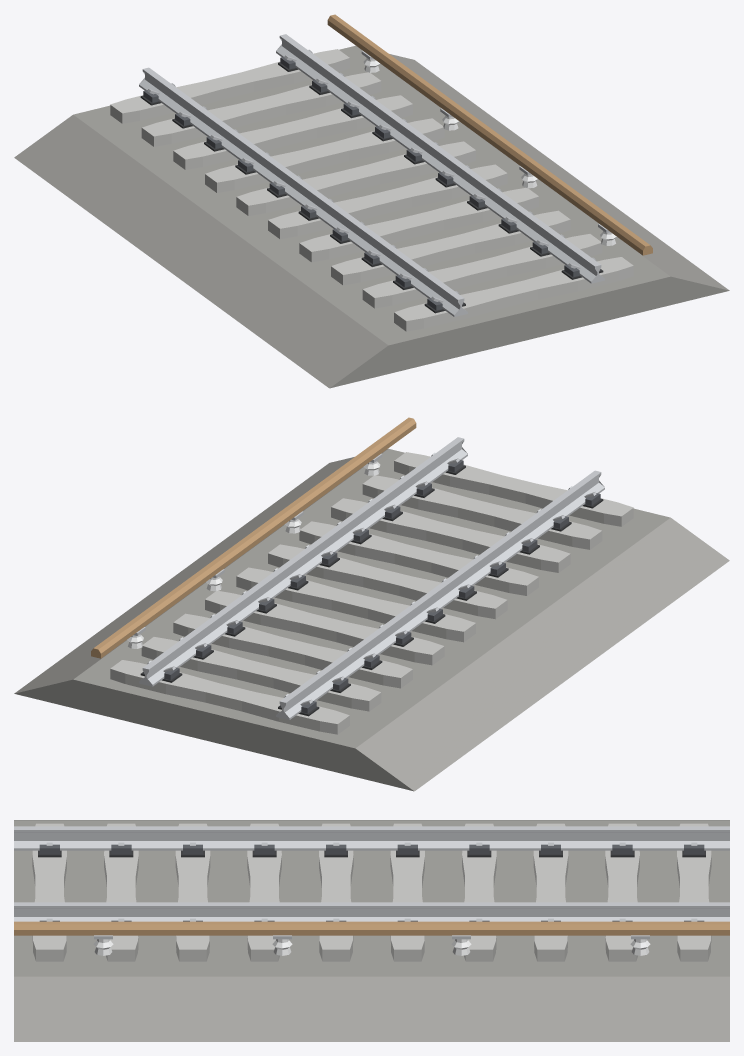
File: modern-rail-and-metro-network-third-rail-track-6m-36a7be0c__13688.glb
The picture shows the model from 3 angles, top to bottom: view 1: azimuth 30°, elevation 25°; view 2: azimuth 150°, elevation 25°; view 3: azimuth 270°, elevation 25°; orthographic projection. The views are drawn at different scales.
Visible parts, largest first — view 1: third-rail-track-6m; view 2: third-rail-track-6m; view 3: third-rail-track-6m.
Part boxes in pixels (x1,y1,x2,y2): third-rail-track-6m: (14, 14, 729, 388); third-rail-track-6m: (14, 417, 729, 791); third-rail-track-6m: (14, 820, 729, 1041).
Bounding box in the file's own units: 4.4 × 0.6802 × 6.
